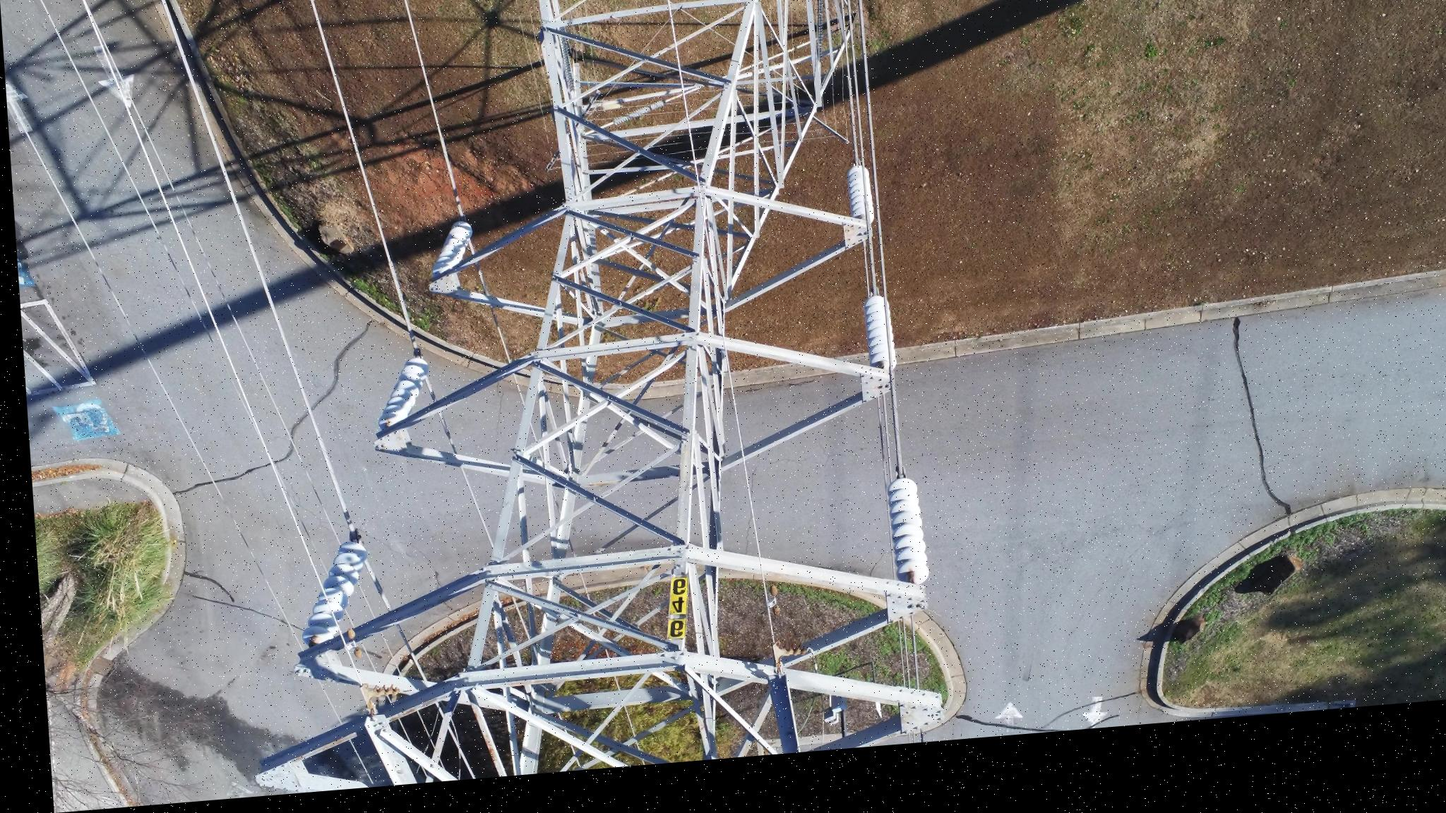tower: (199, 0, 950, 797), (884, 474, 928, 590)
